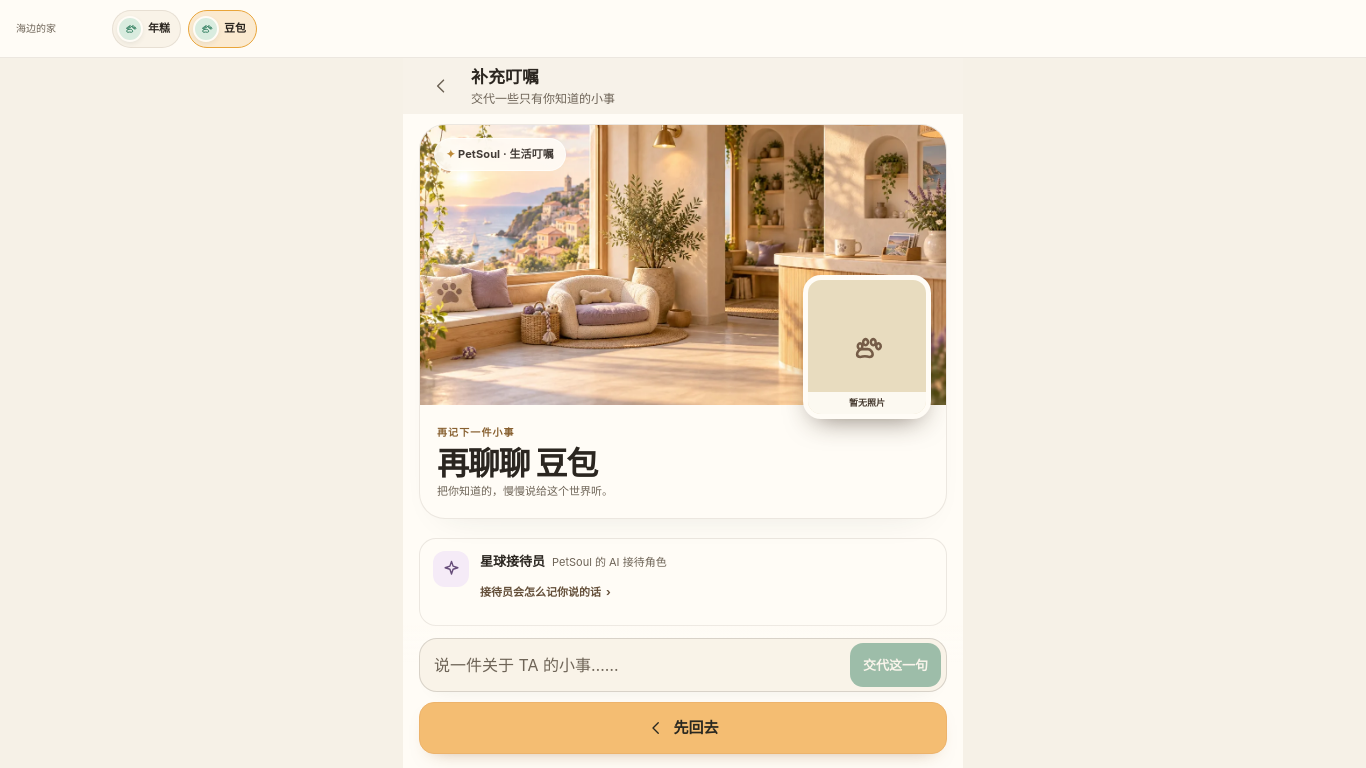
Scenario: 补充叮嘱记给当前宠物（切换栏选中的那只），入住中仍用正在入住的那只 › 在接待页顶上切到年糕：改开年糕的接待，而且换一把开场幂等键（不沿用豆包那次的）
Expected: the heading "再聊聊 豆包" is shown, [437,444,597,483]
Click the button with aria-label "查看 年糕".
click(146, 28)  # box [112,10,181,48]
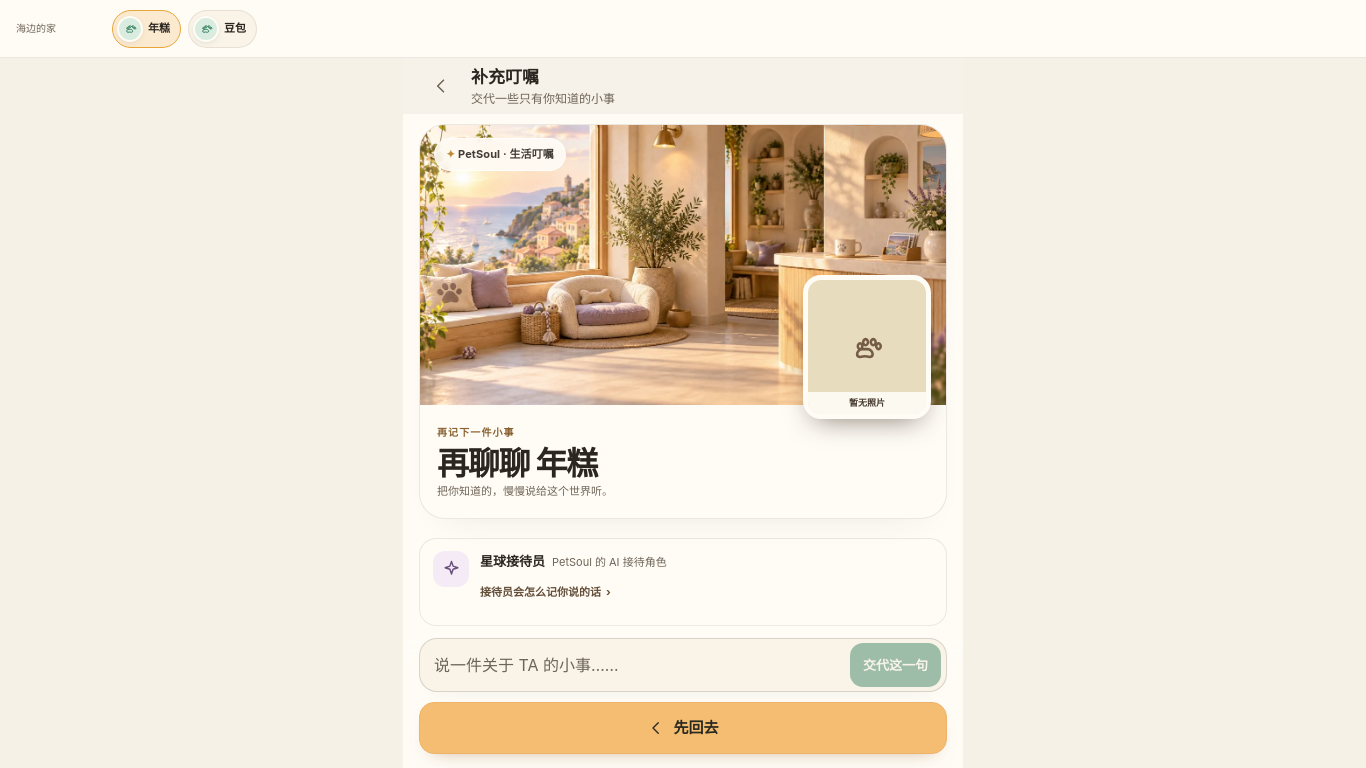
Expected: the heading "再聊聊 年糕" is shown, [437,444,597,483]
